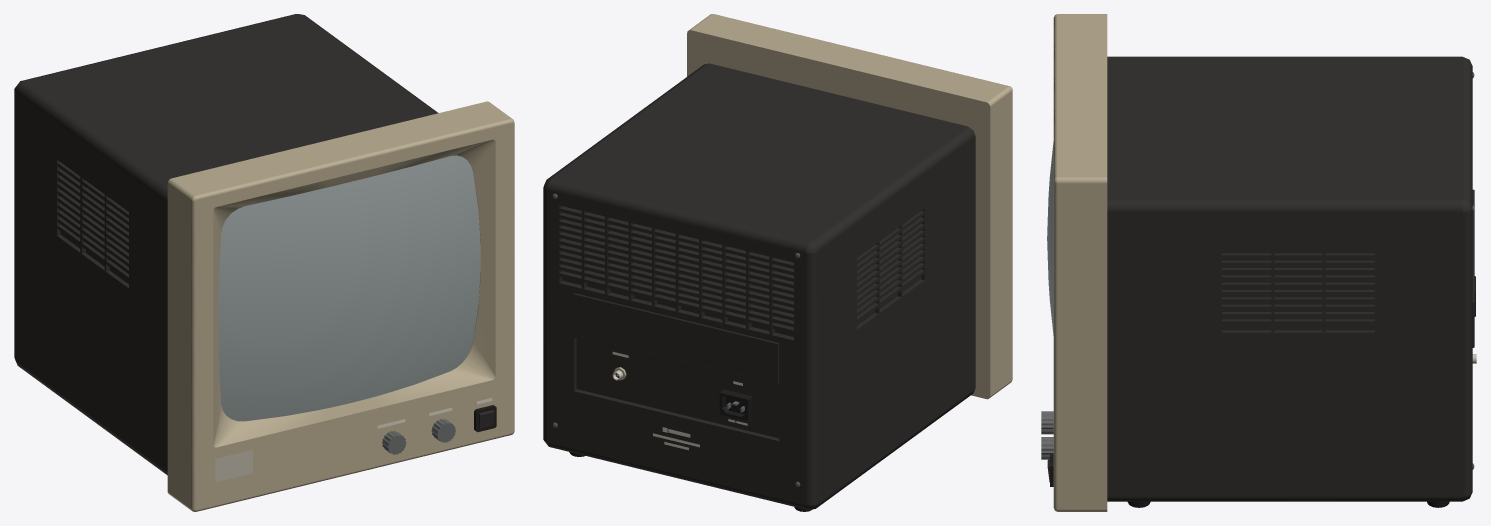
File: crt-monitor-mono-eb6c1d3cb95f.glb
The picture shows the model from 3 angles, left to right: view 1: azimuth 30°, elevation 25°; view 2: azimuth 150°, elevation 25°; view 3: azimuth 270°, elevation 25°; orthographic projection. The views are drawn at different scales.
Parts seen in each view (by area): view 1: plastic-dark, enamel-beige, glass-clear, decal-print, metal; view 2: plastic-dark, enamel-beige, enamel-black; view 3: plastic-dark, enamel-beige, glass-clear, metal.
Boxes of the visible parts, <box> form: plastic-dark: <box>14,14,494,475</box>; enamel-beige: <box>167,101,514,511</box>; glass-clear: <box>218,155,480,421</box>; decal-print: <box>215,449,252,482</box>; metal: <box>382,418,455,454</box>; plastic-dark: <box>543,63,975,509</box>; enamel-beige: <box>613,14,1012,399</box>; enamel-black: <box>719,389,752,421</box>; plastic-dark: <box>1047,56,1474,501</box>; enamel-beige: <box>1053,14,1107,511</box>; glass-clear: <box>1047,141,1053,335</box>; metal: <box>1041,72,1474,469</box>.
Bounding box in the file's own units: 0.31 × 0.3 × 0.3417.
